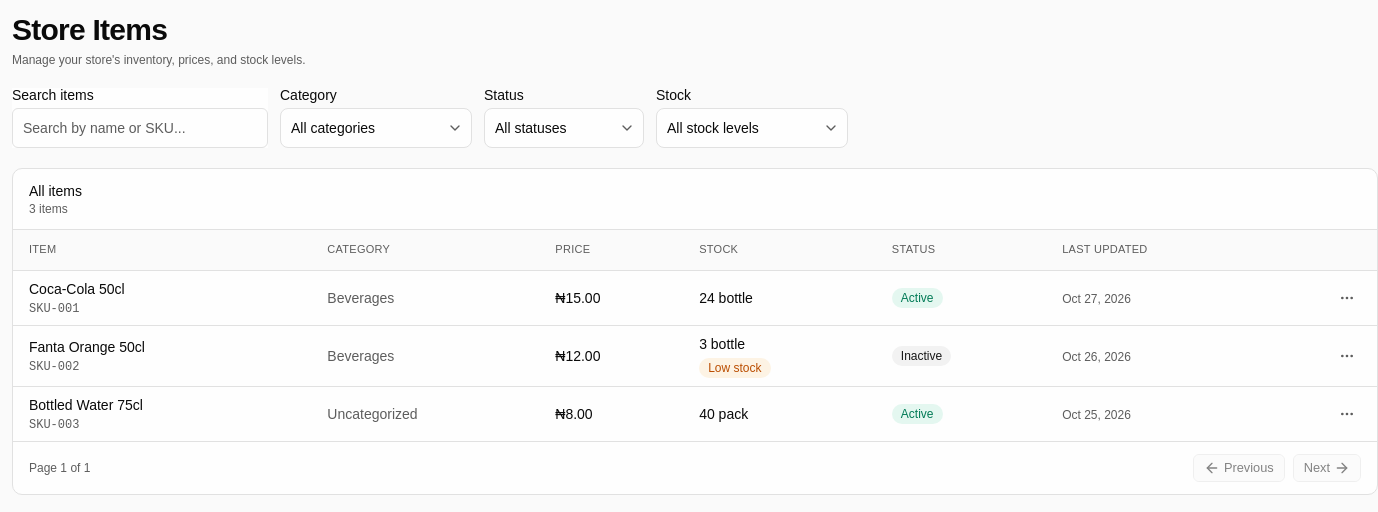
item actions per role › cashier cannot add items and only sees view-level row actions
Check: the text "Coca-Cola 50cl" is shown, box [29,280,125,296]
What coordinates should you click on to do the following:
click the button named "Actions for item Coca-Cola 50cl"
I would click on:
 (1347, 298)
Its box is [1333,284,1361,312].
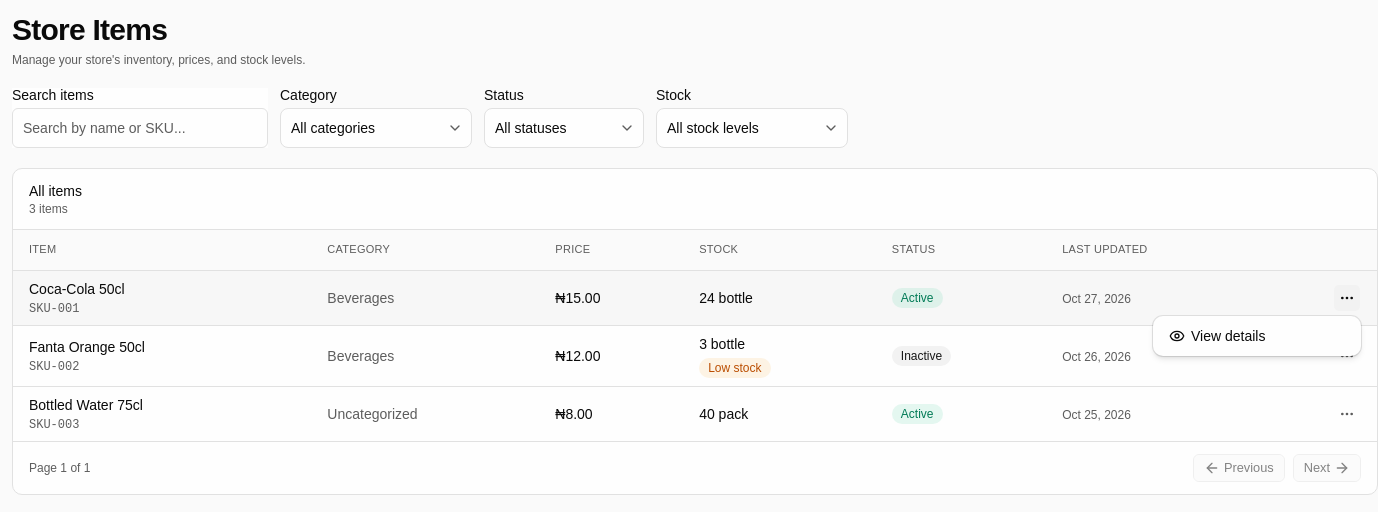
Check: the menu item "View details" is shown, box [1169,328,1266,344]
